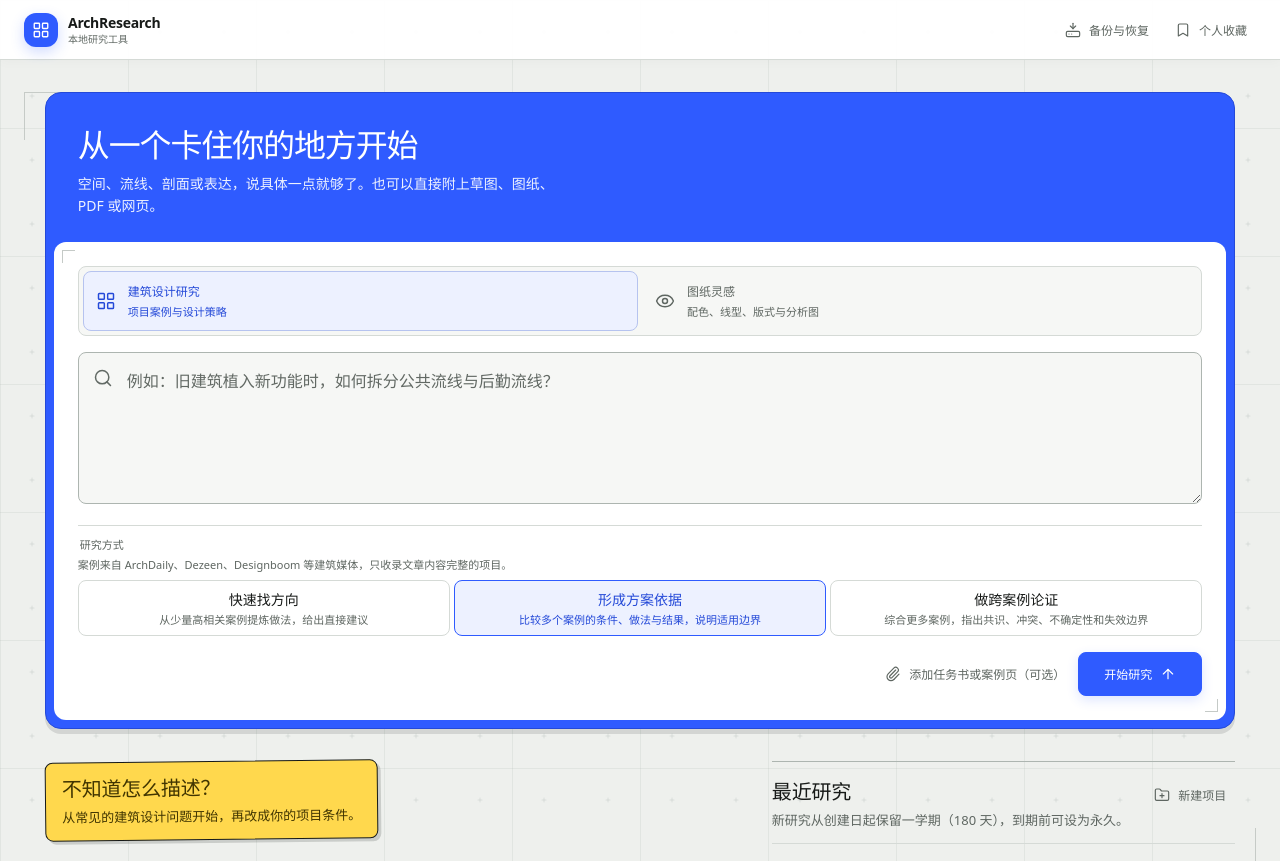
Test: research board › surfaces a research start failure next to the submit button
The image size is (1280, 861).
Type "旧厂房如何植入展厅？" into the text box named "研究问题" at [640, 428], box [78, 352, 1202, 504]
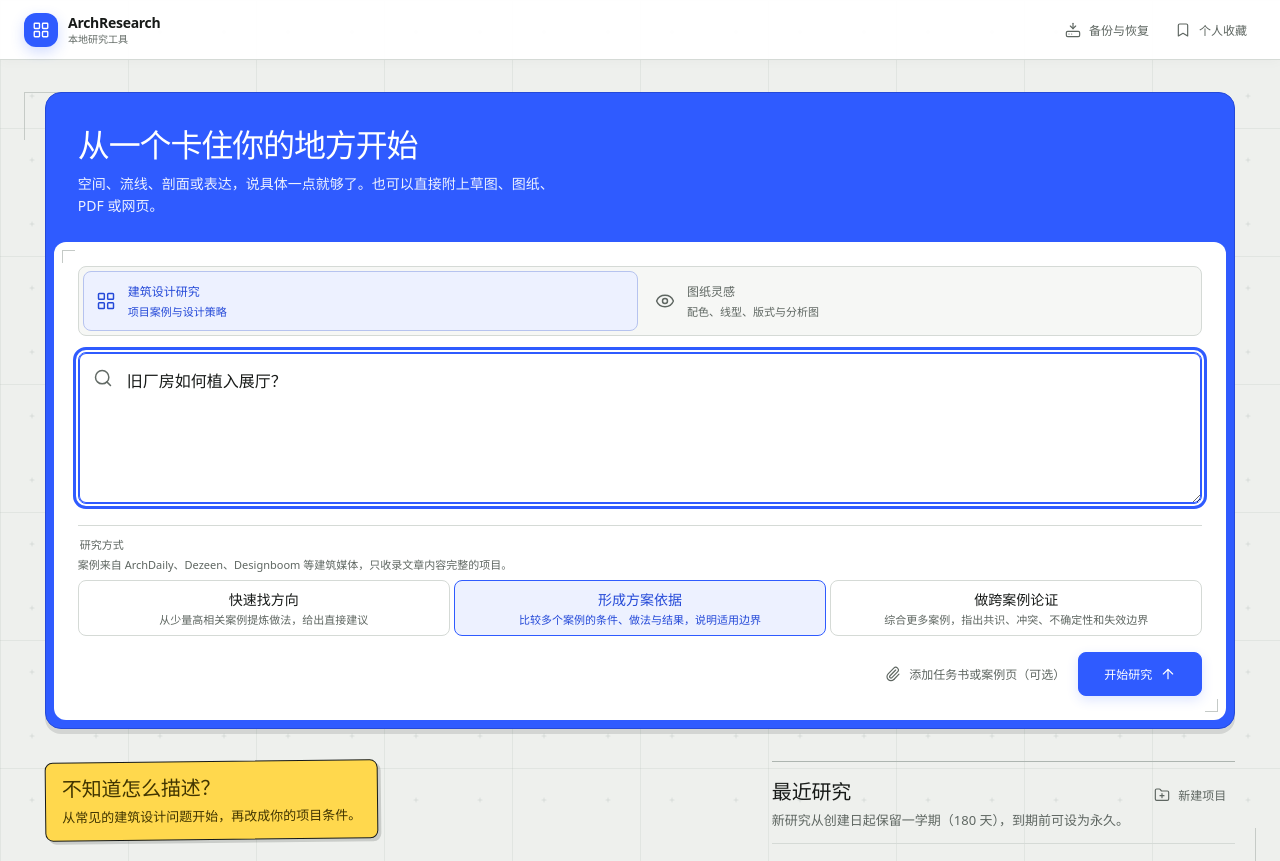
Click the button "开始研究" at [1140, 674], box [1078, 652, 1202, 696]
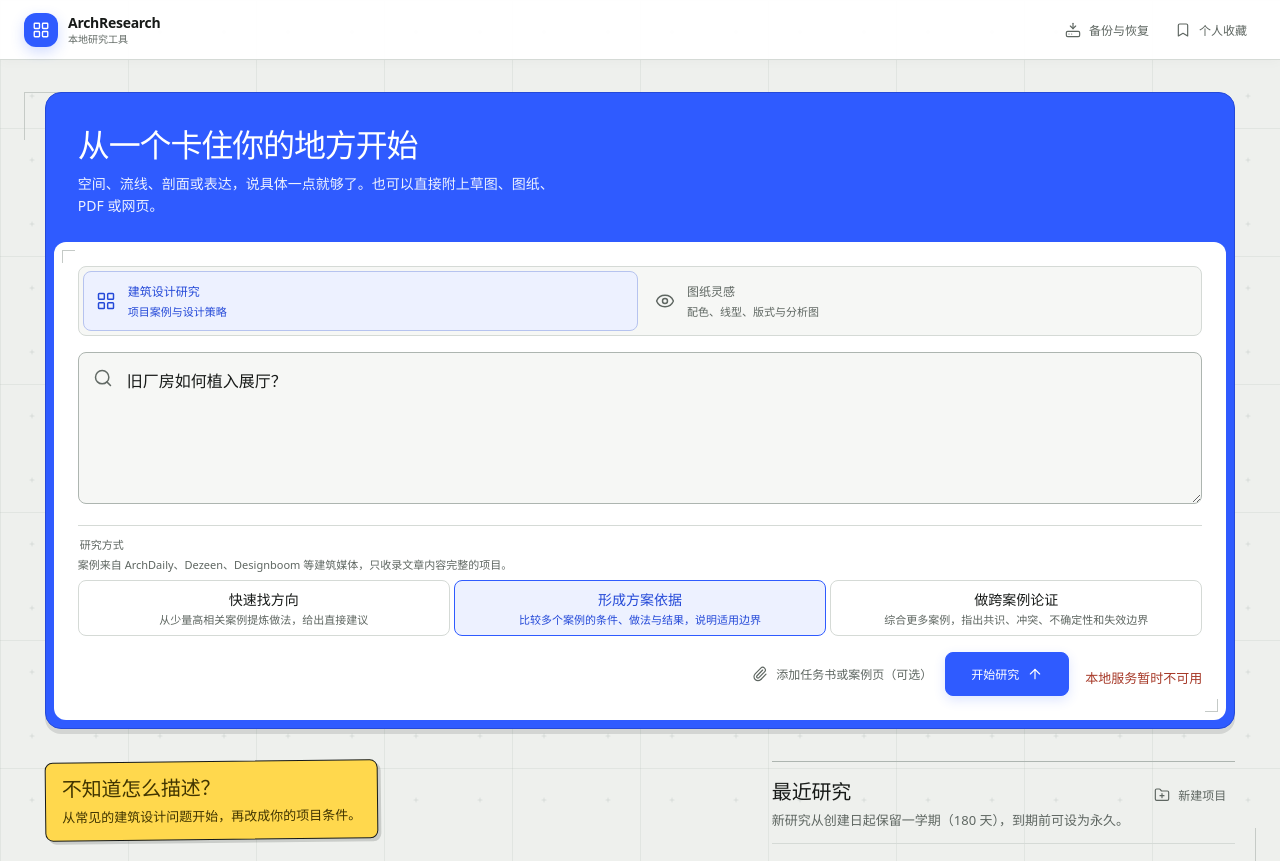
Expected: the form is shown, [54, 242, 1226, 720]
Expected: the message reads "本地服务暂时不可用", [1085, 669, 1202, 687]
